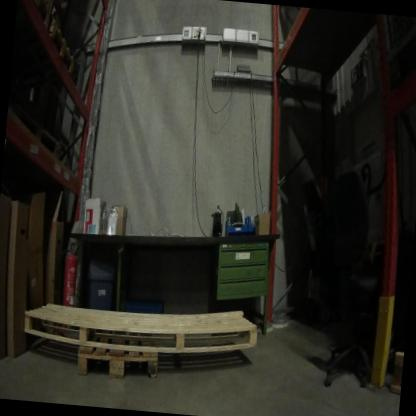pallet: (25, 280, 271, 370), (70, 339, 171, 386), (46, 11, 85, 76), (17, 0, 54, 31), (384, 340, 405, 390)
